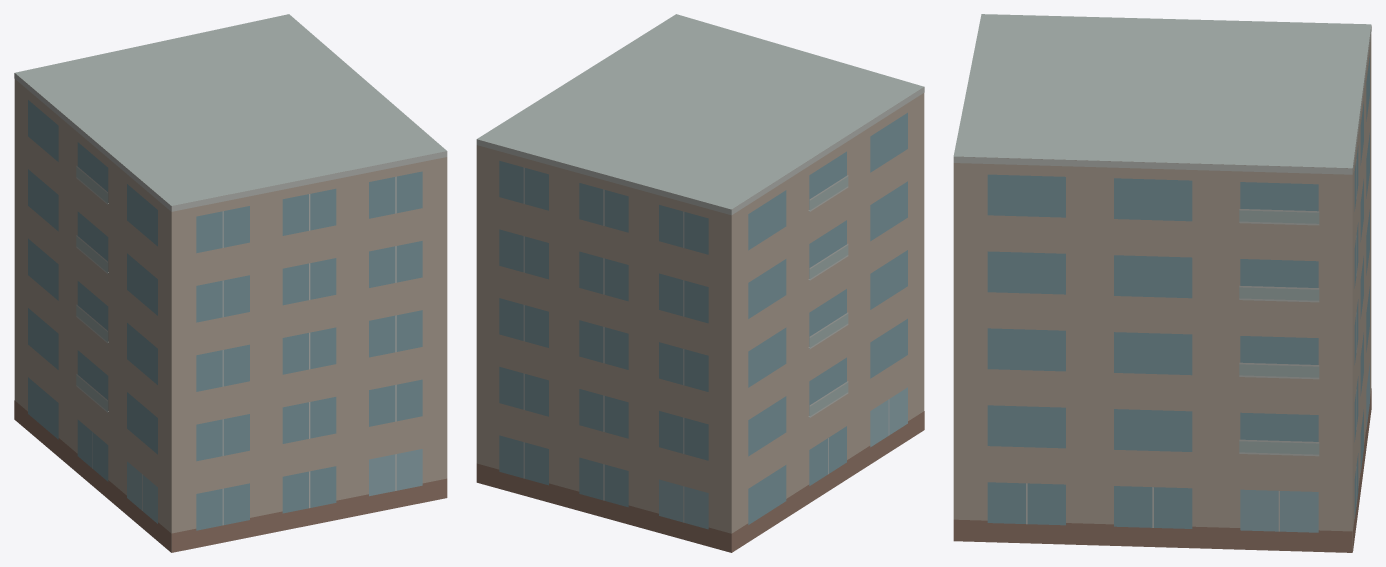
File: survey-upis-32850260.glb
The picture shows the model from 3 angles, left to right: view 1: azimuth 30°, elevation 25°; view 2: azimuth 150°, elevation 25°; view 3: azimuth 270°, elevation 25°; orthographic projection. The views are drawn at different scales.
Parts seen in each view (by area): view 1: survey-upis-32850260.tmp; view 2: survey-upis-32850260.tmp; view 3: survey-upis-32850260.tmp.
Boxes of the visible parts, left/top/right/bottom form: survey-upis-32850260.tmp: left=14, top=14, right=447, bottom=552; survey-upis-32850260.tmp: left=476, top=14, right=924, bottom=552; survey-upis-32850260.tmp: left=953, top=14, right=1371, bottom=552.
Size of the model in its own units: 12.48 by 14.5 by 14.29.
